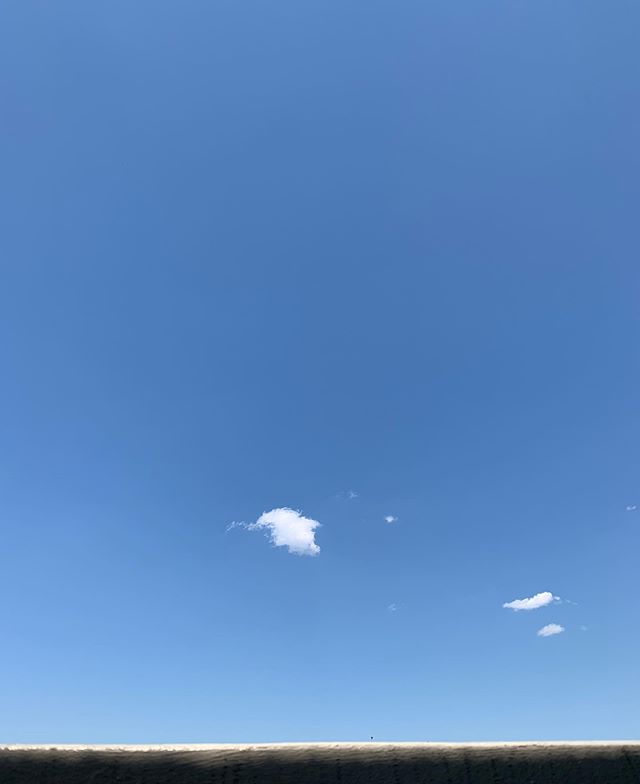sky: (1, 1, 637, 736)
